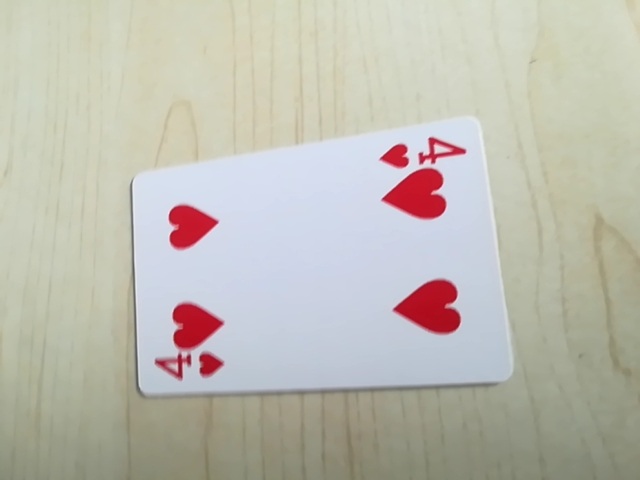hx 4: (376, 129, 469, 170), (148, 350, 230, 390)
